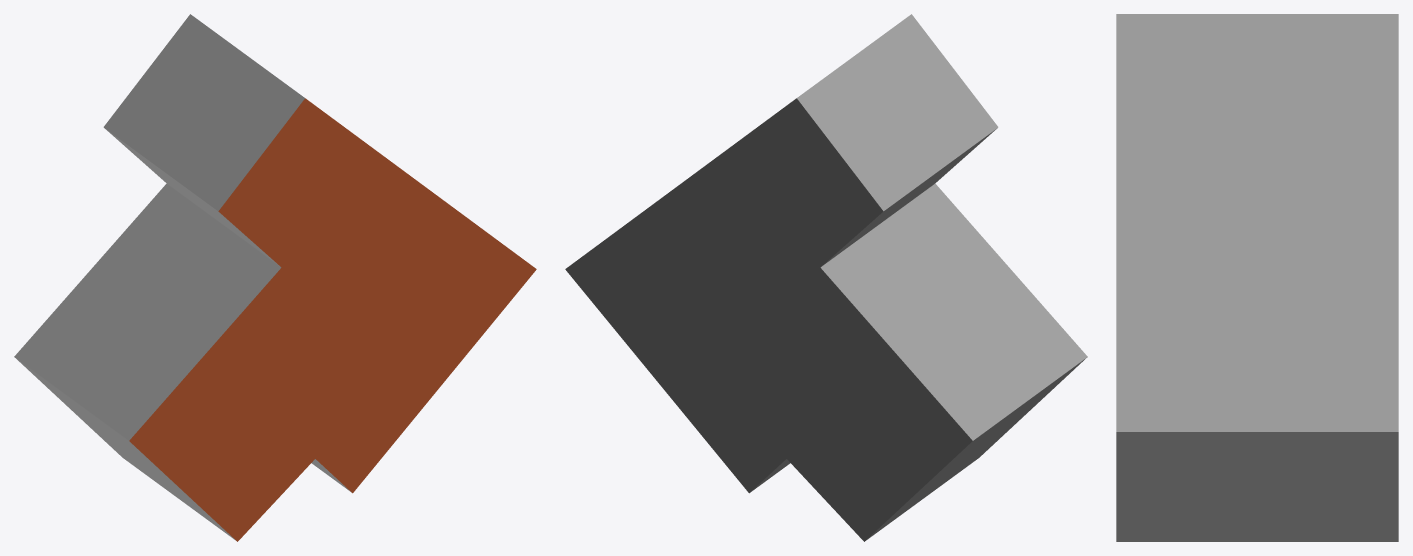
Rendered from construction_0545_assumed_A_Casa_h6m.obj.
3 views of the same model, side by side, from view 1: azimuth 30°, elevation 25°; view 2: azimuth 150°, elevation 25°; view 3: azimuth 270°, elevation 25° (orthographic). The views are drawn at different scales.
Parts seen in each view (by area): view 1: construction_0545_assumed_A_Casa; view 2: construction_0545_assumed_A_Casa; view 3: construction_0545_assumed_A_Casa.
Part boxes in pixels (<box>): construction_0545_assumed_A_Casa: <box>14,14,536,541</box>; construction_0545_assumed_A_Casa: <box>565,14,1087,541</box>; construction_0545_assumed_A_Casa: <box>1116,14,1398,541</box>.
Size of the model in its own units: 12.29 by 12.31 by 6.
